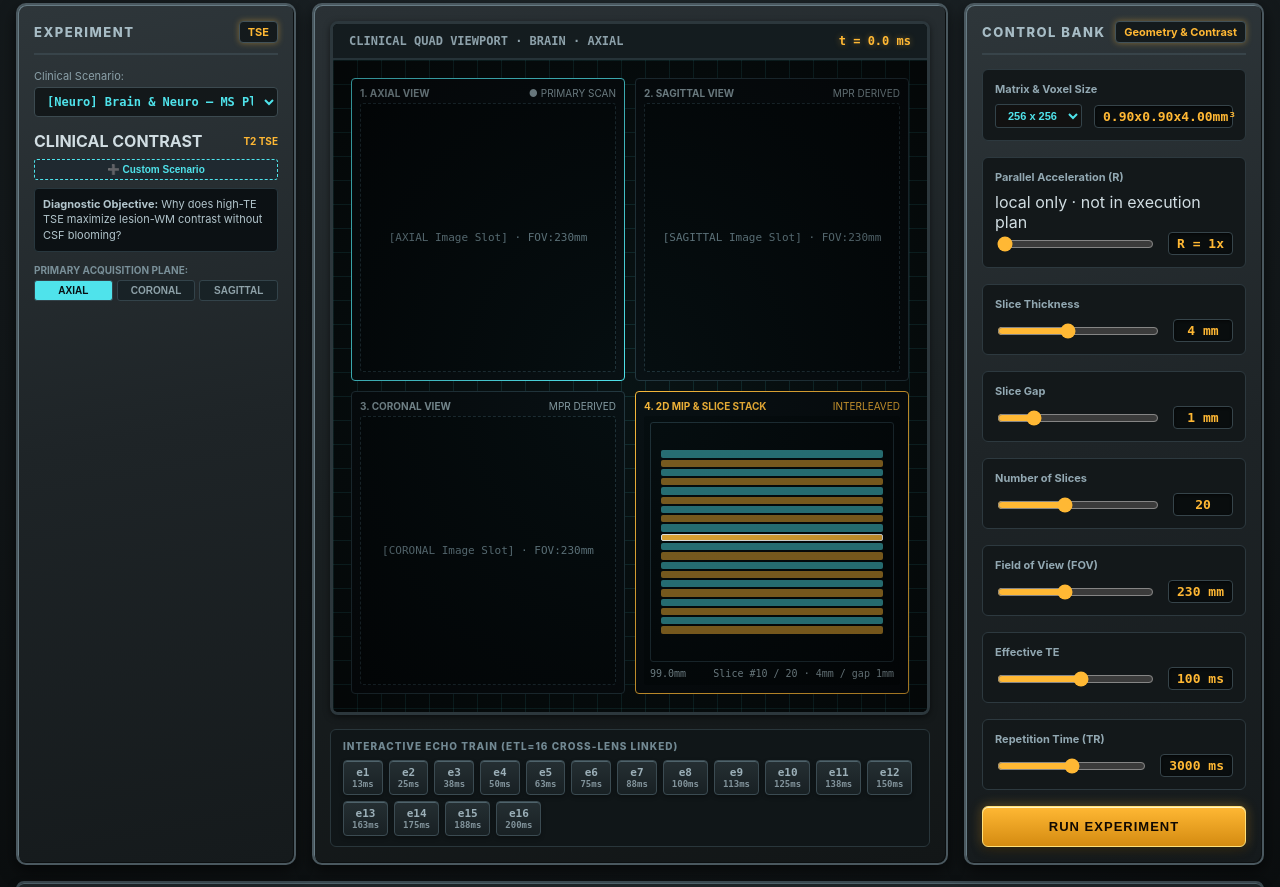
Test: Wave A: fail-closed RUN from clinical recipe › POSTs /experiments/run-from-recipe with brain_t2_tse and shows RESULT
The width and height of the screenshot is (1280, 887).
Select "384 x 384" in the dropdown with test id "matrix-size-select" at [1038, 116], box [995,104,1082,128]
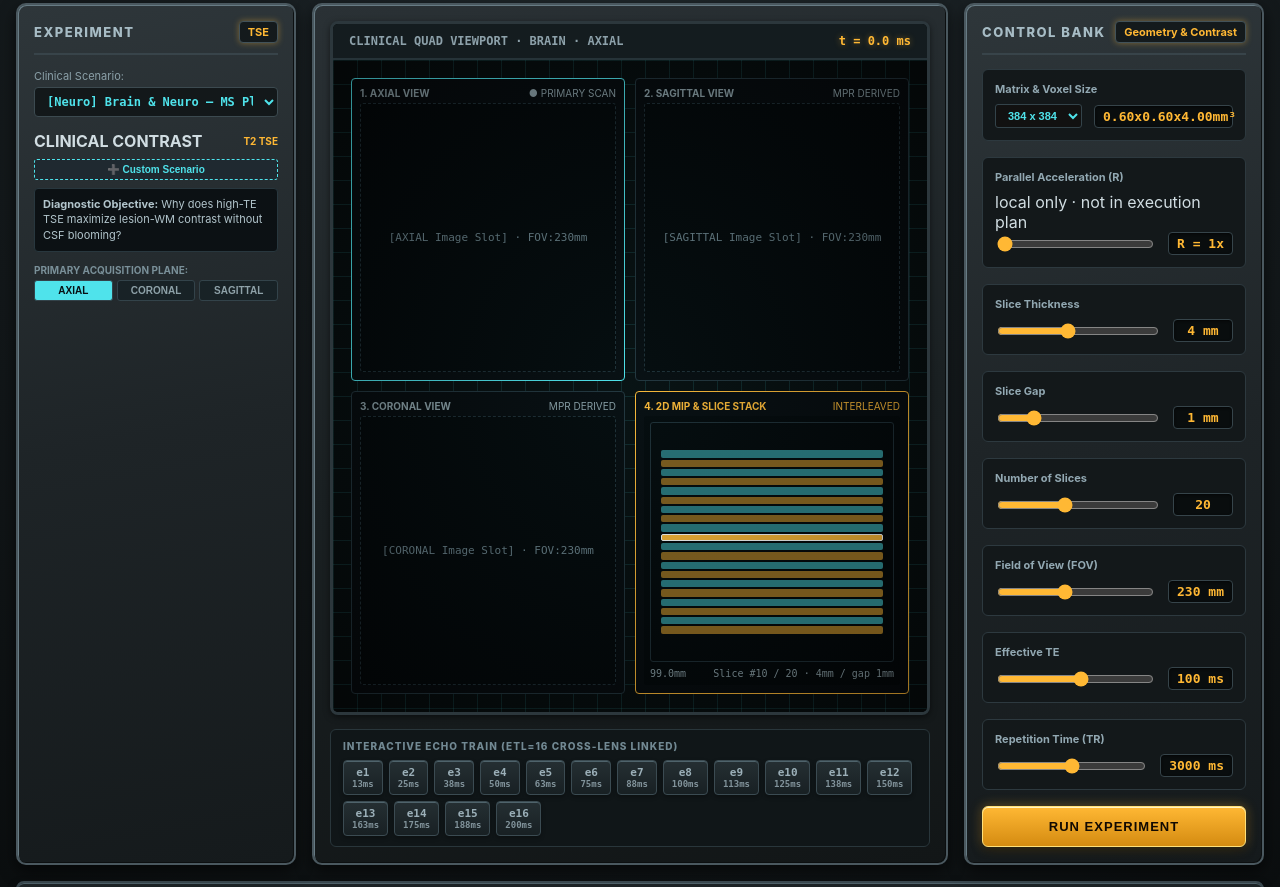
Set the slider with test id "clinical-slice-thickness-slider" to "6" at [1109, 330], box [997,322,1159,338]
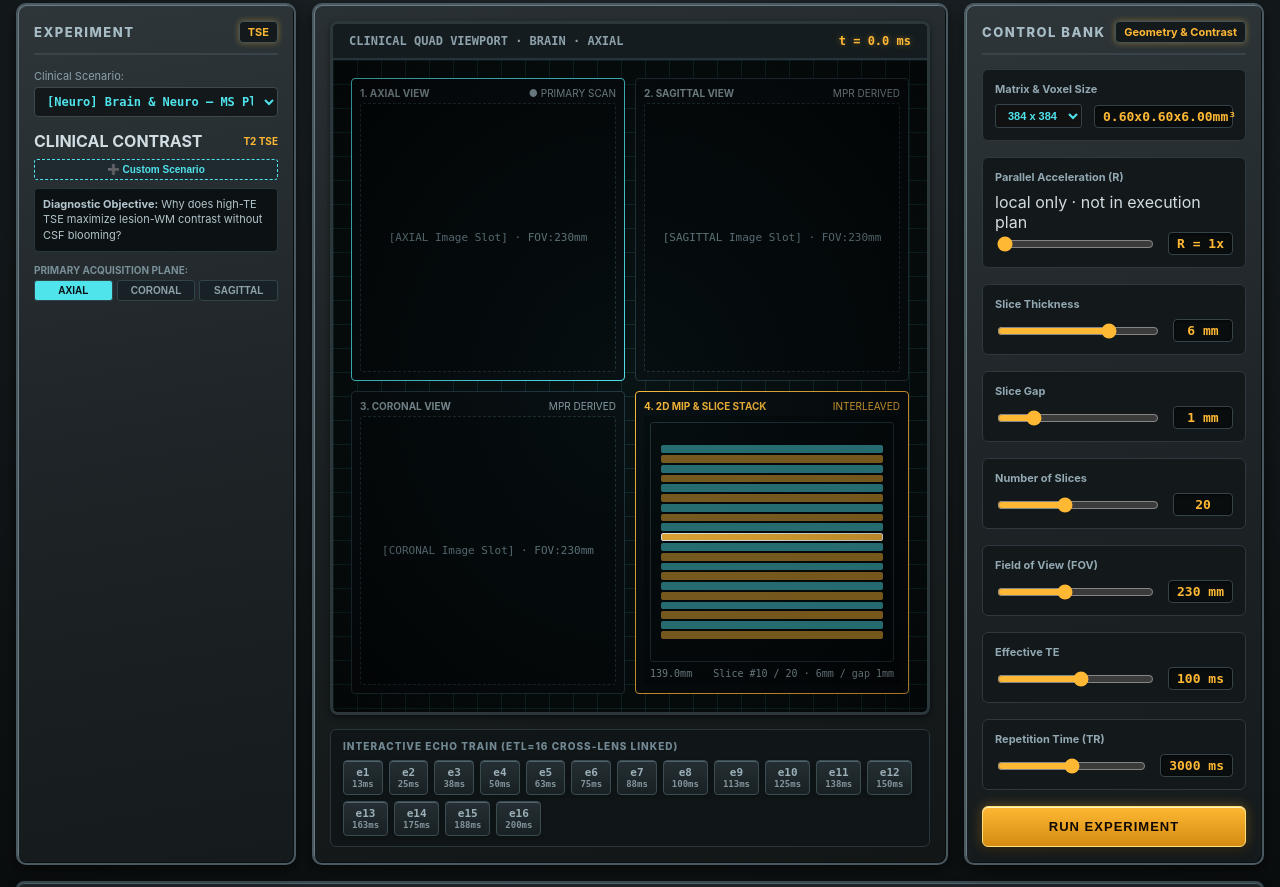
Set the slider with test id "clinical-slice-gap-slider" to "2" at [1063, 418], box [997,410,1159,426]
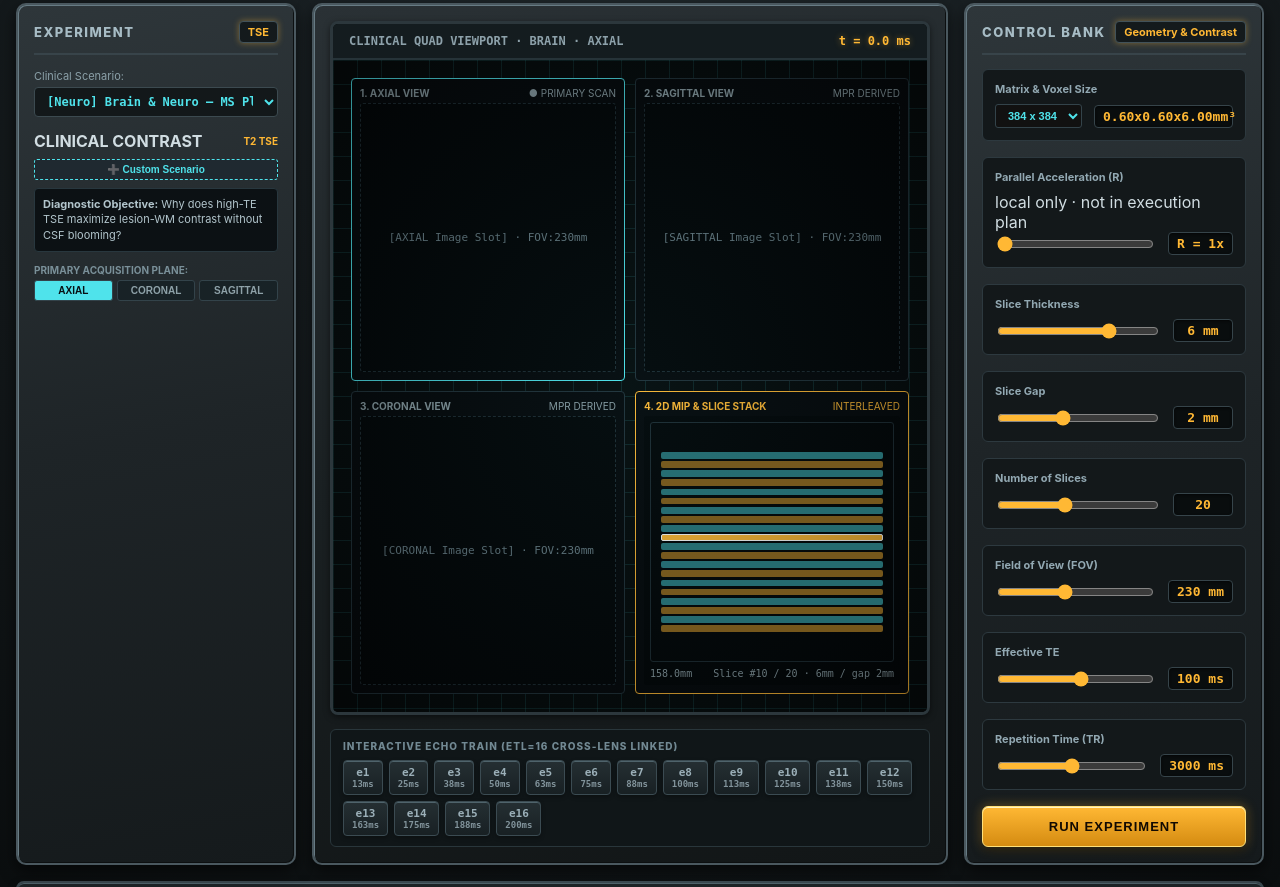
Set the slider with test id "clinical-slice-count-slider" to "30" at [1108, 504], box [997,496,1159,512]
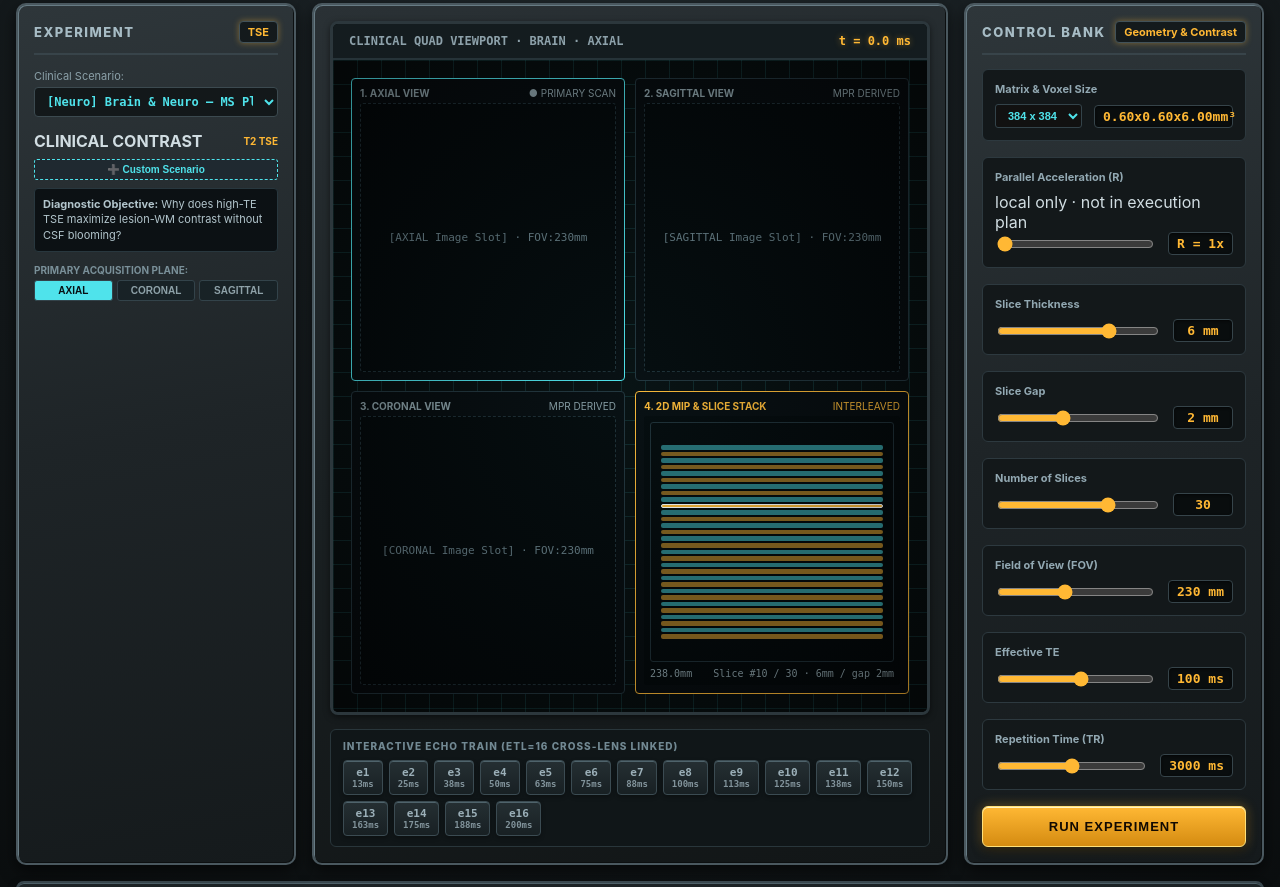
Set the slider with test id "clinical-fov-slider" to "300" at [1096, 592], box [997,584,1154,600]
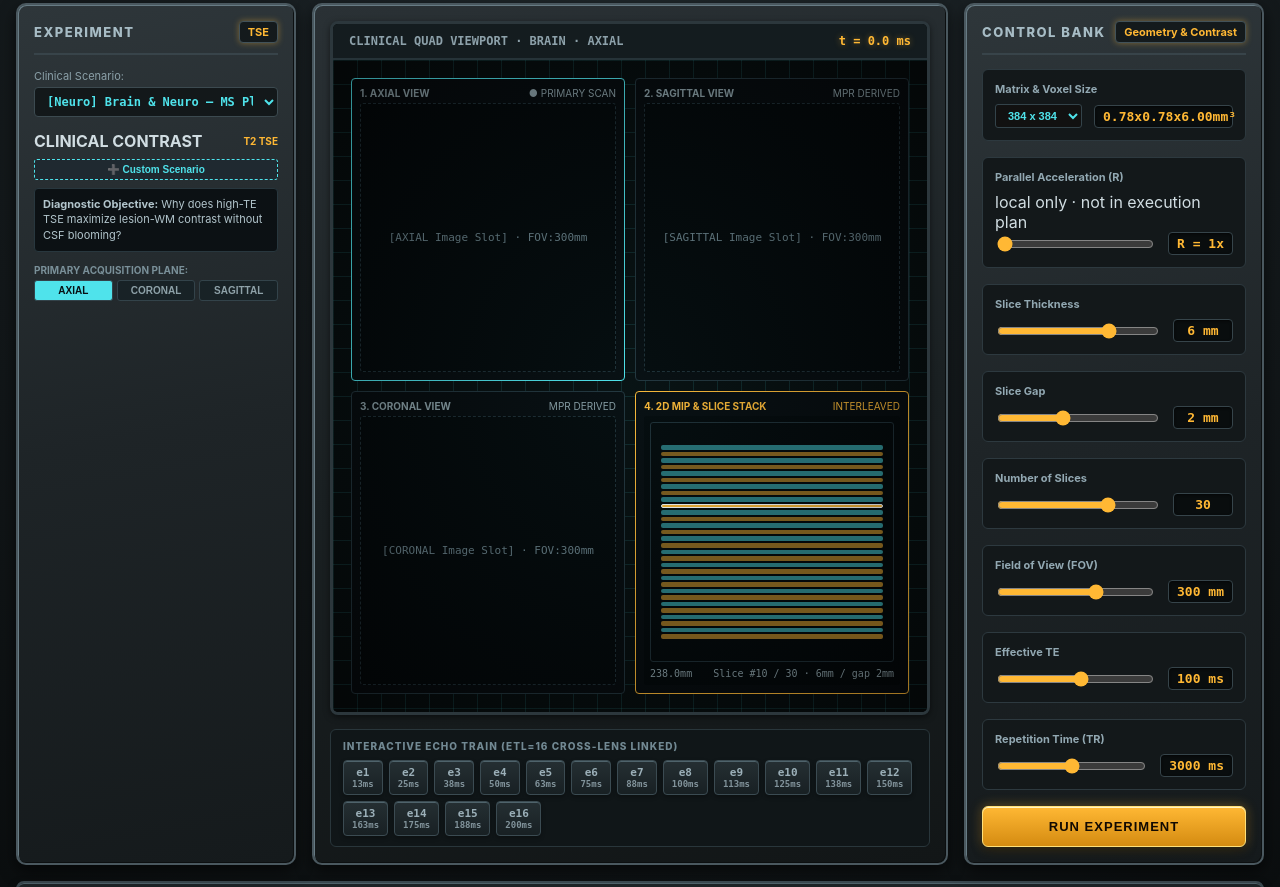
Set the slider with test id "clinical-acceleration-slider" to "2" at [1052, 244], box [997,236,1154,252]
Click the button with test id "run-experiment-btn".
click(1114, 826)  # box [982,806,1246,847]
(page scrolled)
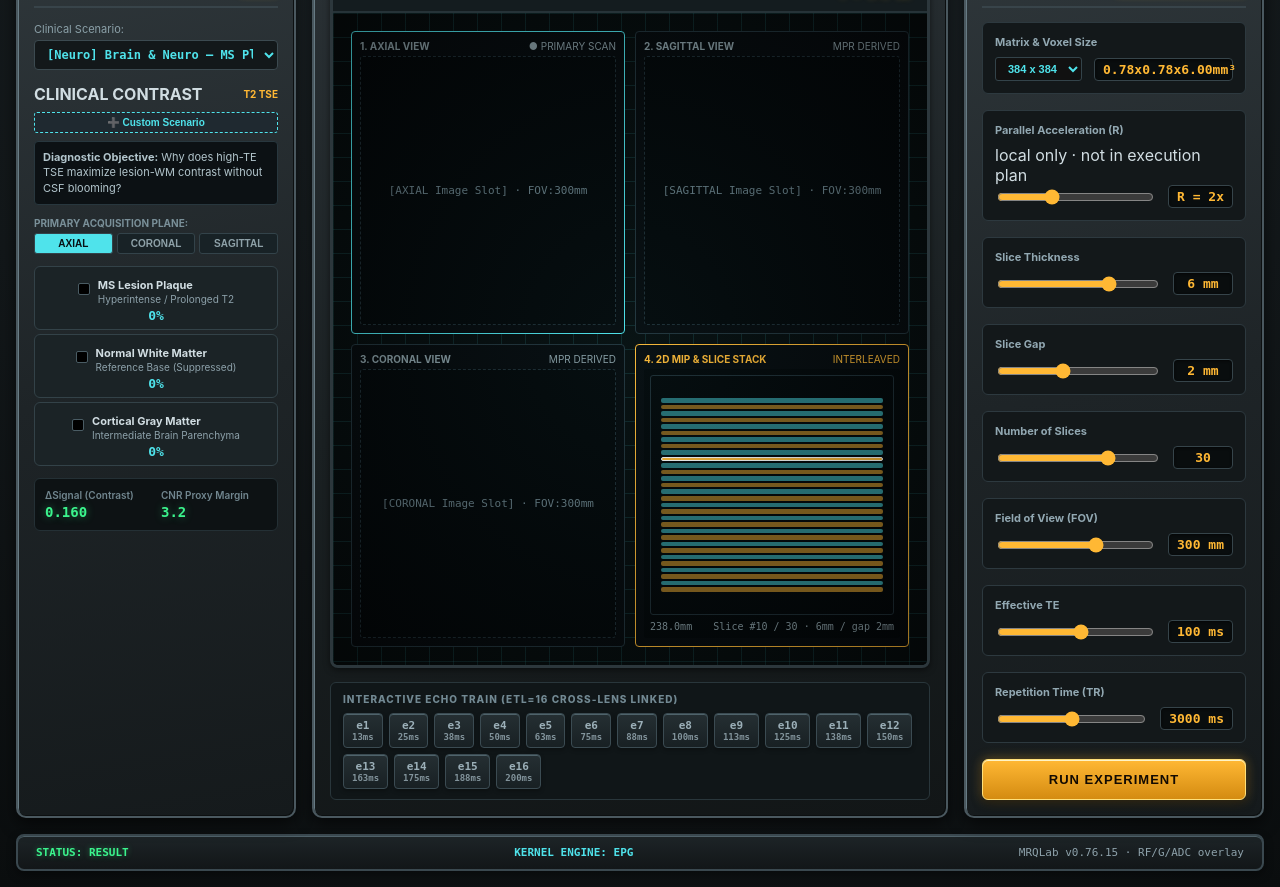
Check: the element with test id "status-rail" shows "STATUS: RESULT", box [16,834,1264,871]
Check: the element with test id "status-rail" shows "KERNEL ENGINE: EPG", box [16,834,1264,871]
